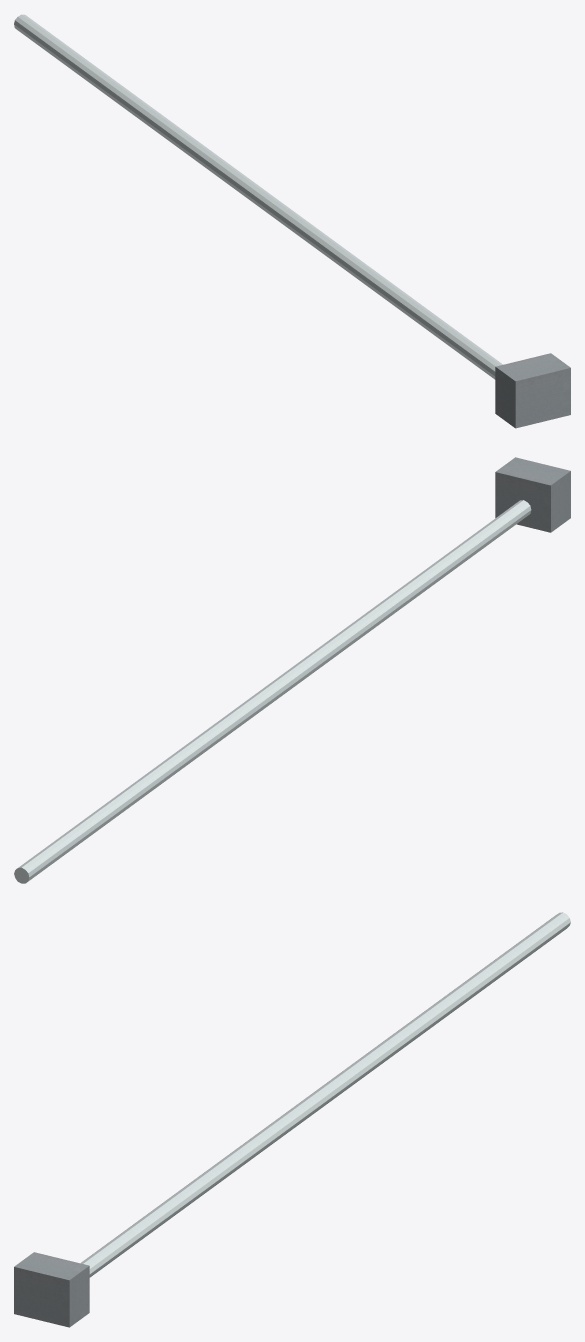
Rendered from jxh001-geode.glb.
3 renders of one model, top to bottom at view 1: azimuth 30°, elevation 25°; view 2: azimuth 150°, elevation 25°; view 3: azimuth 330°, elevation 25°, orthographic.
Visible parts, largest first — view 1: Node; view 2: Node; view 3: Node.
Part boxes in pixels (left/top/right/bottom): Node: left=14, top=14, right=570, bottom=428; Node: left=14, top=457, right=570, bottom=883; Node: left=14, top=912, right=570, bottom=1327.
Bounding box in the file's own units: 0.2563 × 0.2083 × 4.17.
Materials: 2 (2 with a texture image).
